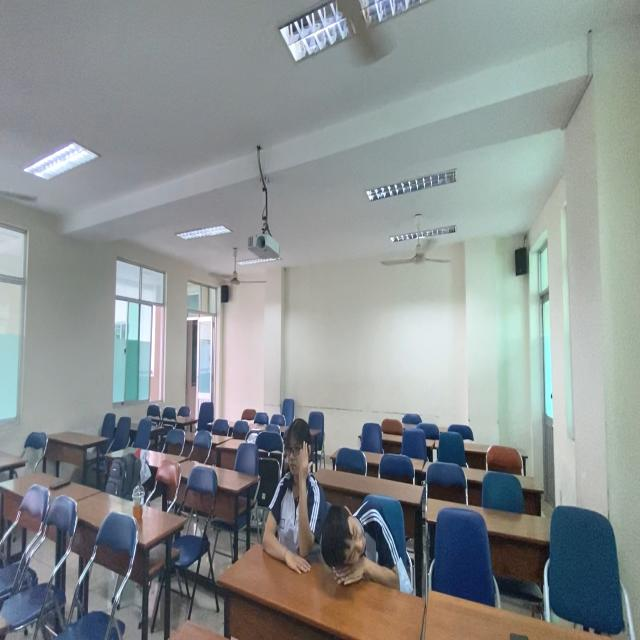raise_hand: (263, 418, 323, 580)
sleep: (319, 480, 420, 600)
